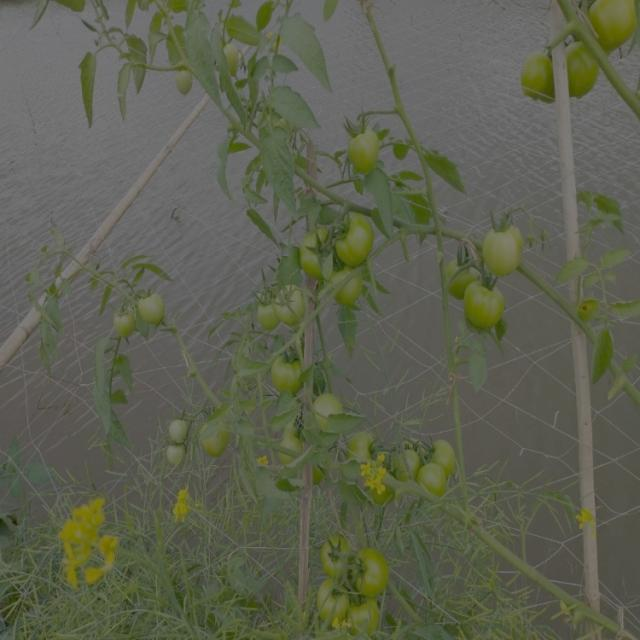tomato: (480, 213, 534, 276), (589, 1, 640, 57), (330, 206, 377, 265), (460, 278, 509, 332), (562, 43, 607, 99), (522, 42, 562, 103), (353, 547, 393, 598), (349, 126, 388, 178), (325, 268, 369, 307), (308, 390, 344, 436), (216, 39, 249, 88), (303, 221, 336, 269), (199, 412, 232, 460), (136, 285, 171, 330), (276, 280, 310, 326), (341, 425, 379, 466), (272, 345, 303, 394), (318, 581, 348, 628), (317, 537, 352, 576), (444, 253, 478, 290), (389, 437, 419, 478), (428, 437, 462, 473), (250, 288, 278, 329), (351, 601, 383, 635), (283, 417, 307, 461), (419, 466, 447, 500), (170, 67, 200, 98), (168, 414, 191, 450), (114, 303, 138, 336), (163, 446, 186, 470)
